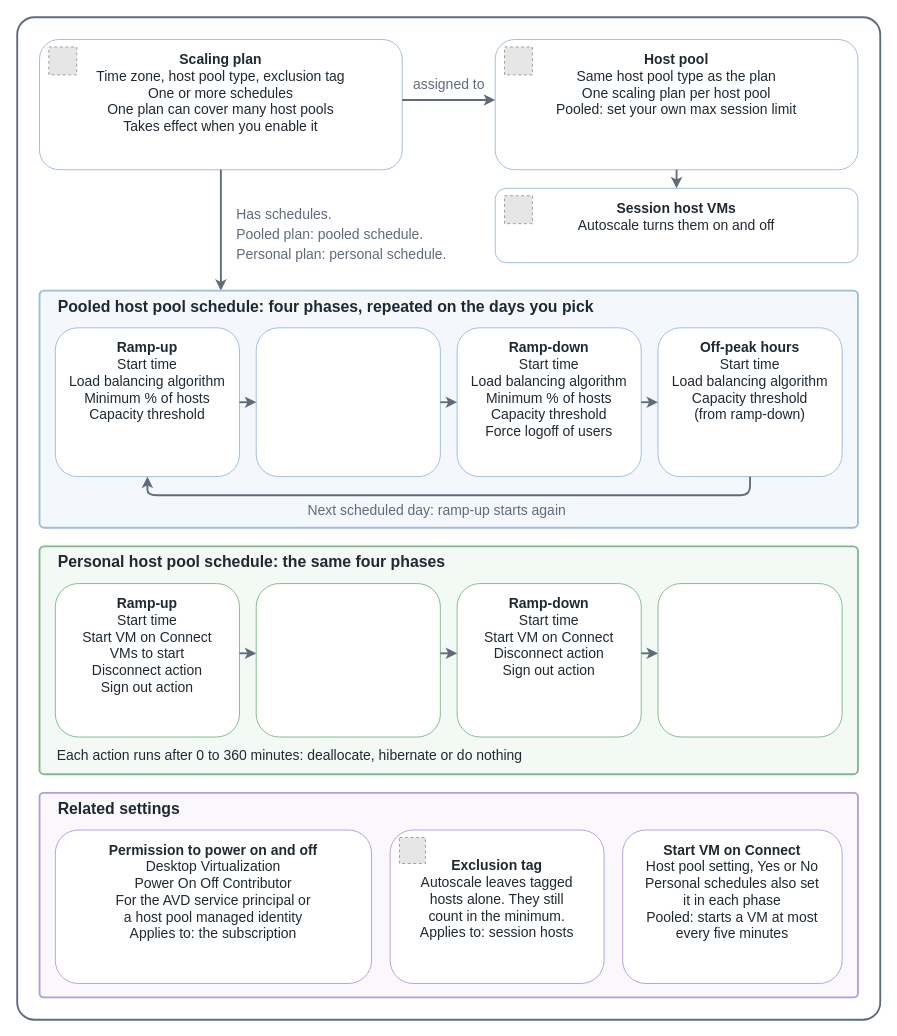
Some shapes in this 897 by 1036 pixel diagram are drawn without their labels. Grey dashed boxes stand in for pictures. Here are the shapes that lost their labels. From the top down, the centre of each, then its label:
At (347,402): "Peak hours Start time Load balancing algorithm Capacity threshold (from ramp-up)".
At (347,660): "Peak hours Start time Start VM on Connect Disconnect action Sign out action".
At (749,660): "Off-peak hours Start time Start VM on Connect Disconnect action Sign out action".
